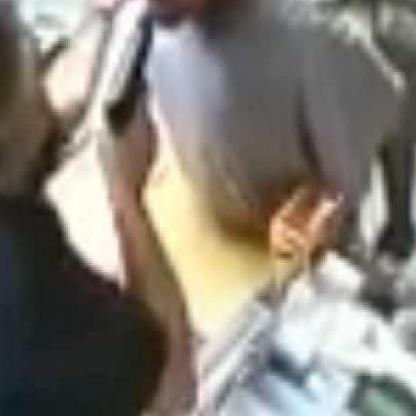gun: (97, 14, 161, 133)
